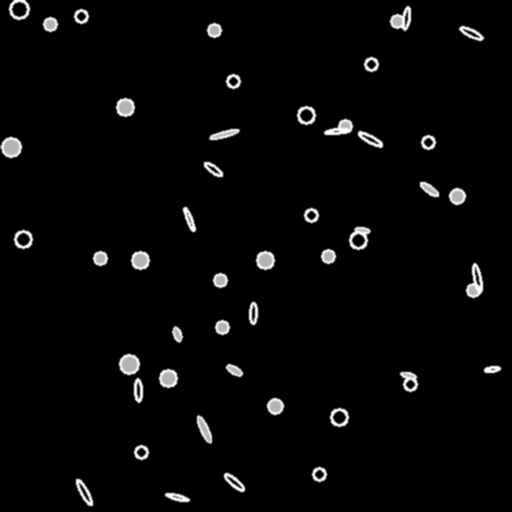pseudomonas: (195, 415, 213, 443), (75, 478, 93, 506), (357, 130, 383, 148), (223, 472, 245, 492), (458, 25, 484, 41), (182, 206, 196, 232), (203, 160, 223, 178), (209, 128, 239, 140), (471, 264, 483, 292), (419, 181, 439, 197), (225, 363, 243, 377), (165, 492, 189, 502), (401, 6, 411, 30), (171, 326, 183, 342), (324, 127, 348, 135), (134, 379, 142, 401), (249, 303, 257, 323), (400, 371, 416, 379), (354, 226, 370, 234), (484, 365, 500, 373)
synechocystis: (2, 138, 20, 156), (10, 0, 28, 18), (120, 355, 138, 373), (132, 252, 148, 268), (298, 107, 314, 123), (257, 252, 273, 268), (15, 231, 31, 247), (350, 232, 366, 248), (160, 370, 176, 386), (331, 409, 347, 425), (117, 99, 133, 115), (268, 399, 282, 413), (450, 189, 464, 203), (404, 378, 416, 390), (467, 284, 479, 296), (94, 252, 106, 264), (216, 321, 228, 333), (391, 15, 403, 27), (322, 250, 334, 262), (135, 446, 147, 458), (208, 24, 220, 36), (75, 10, 87, 22), (227, 75, 239, 87), (44, 18, 56, 30), (214, 274, 226, 286), (422, 136, 434, 148), (305, 209, 317, 221), (313, 468, 325, 480), (365, 58, 377, 70), (339, 120, 351, 132)
